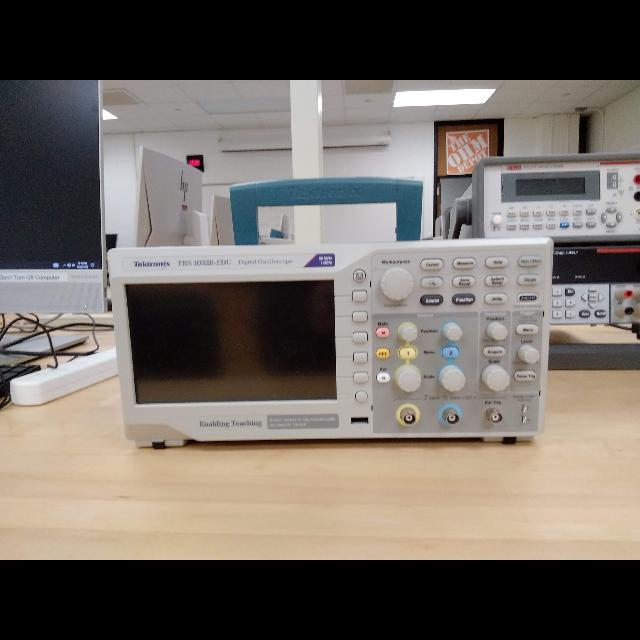Digital-Oscilloscope: (109, 242, 550, 448)
